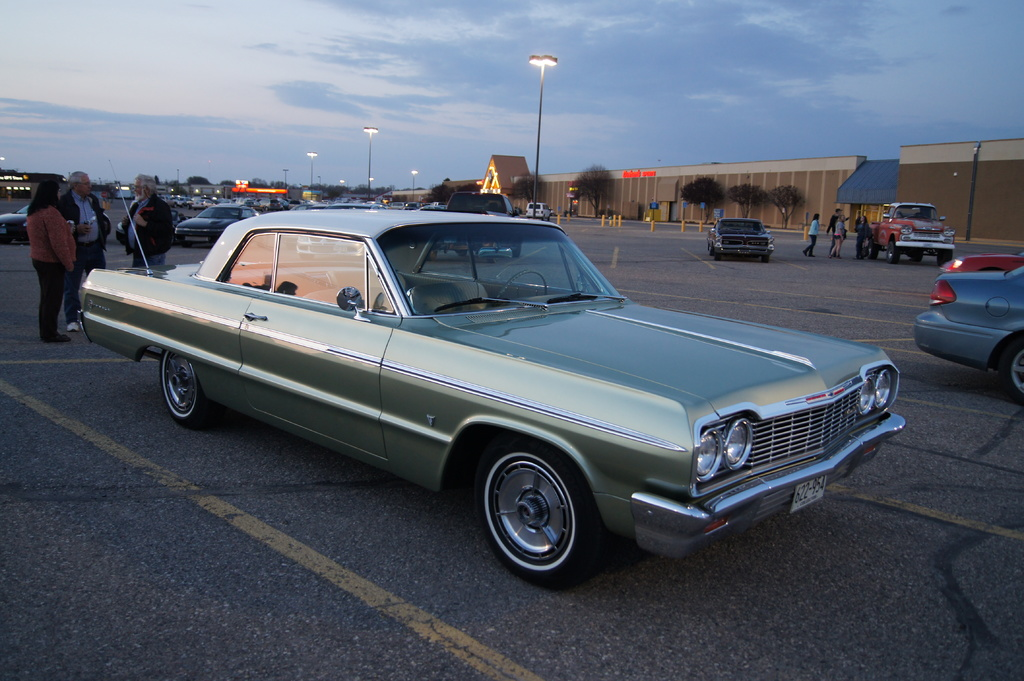Car: (80, 200, 907, 579), (910, 263, 1023, 403), (178, 201, 264, 247), (709, 216, 775, 259), (940, 247, 1023, 275), (0, 197, 30, 239)
